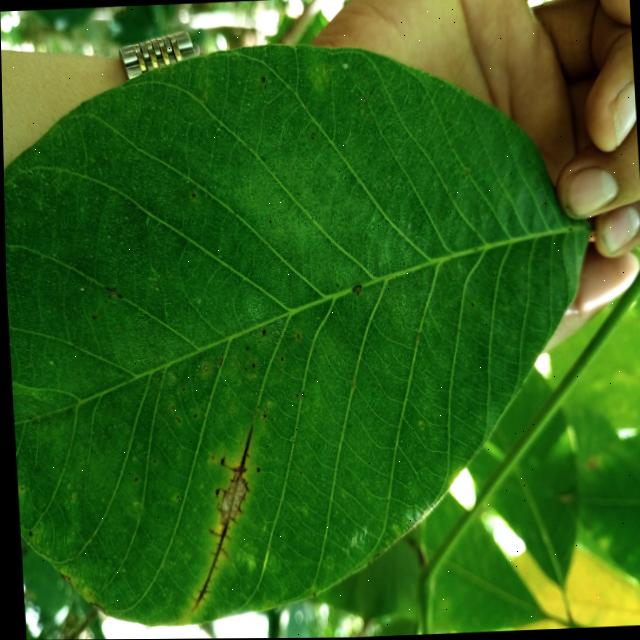Colletotrichum: (201, 365, 205, 371), (249, 364, 251, 368)
Corynespora: (176, 423, 261, 613)
